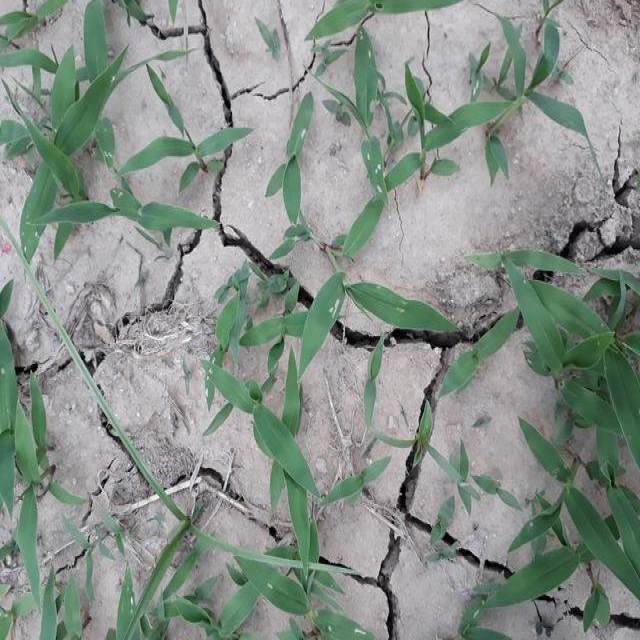weed: (212, 96, 342, 640), (500, 218, 640, 639), (327, 30, 592, 160), (0, 0, 137, 239), (1, 275, 74, 618), (336, 261, 505, 383), (105, 516, 209, 638)
